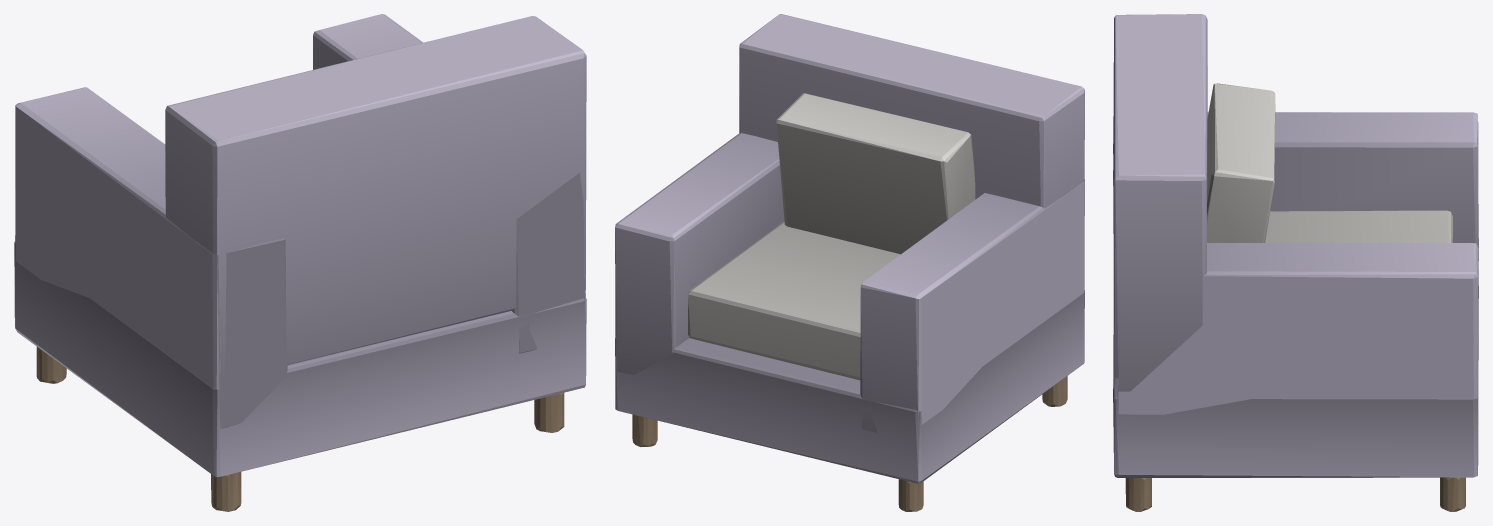
File: furn_armchair__lavender_low.glb
The picture shows the model from 3 angles, left to right: view 1: azimuth 30°, elevation 25°; view 2: azimuth 150°, elevation 25°; view 3: azimuth 270°, elevation 25°; orthographic projection. The views are drawn at different scales.
Bounding box in the file's own units: 0.9 × 0.8786 × 0.85.
